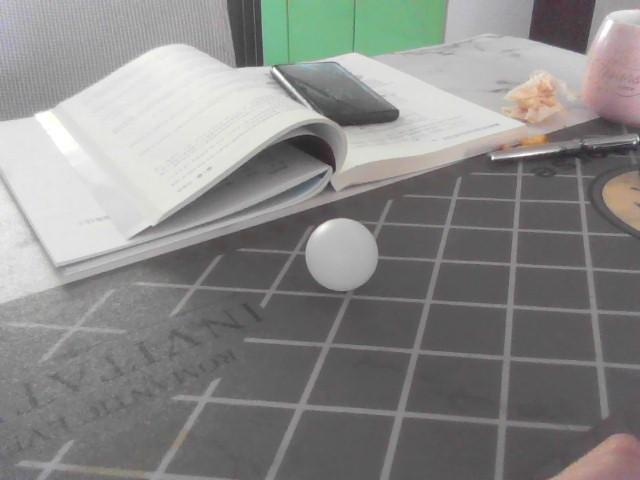ball: (305, 218, 377, 291)
